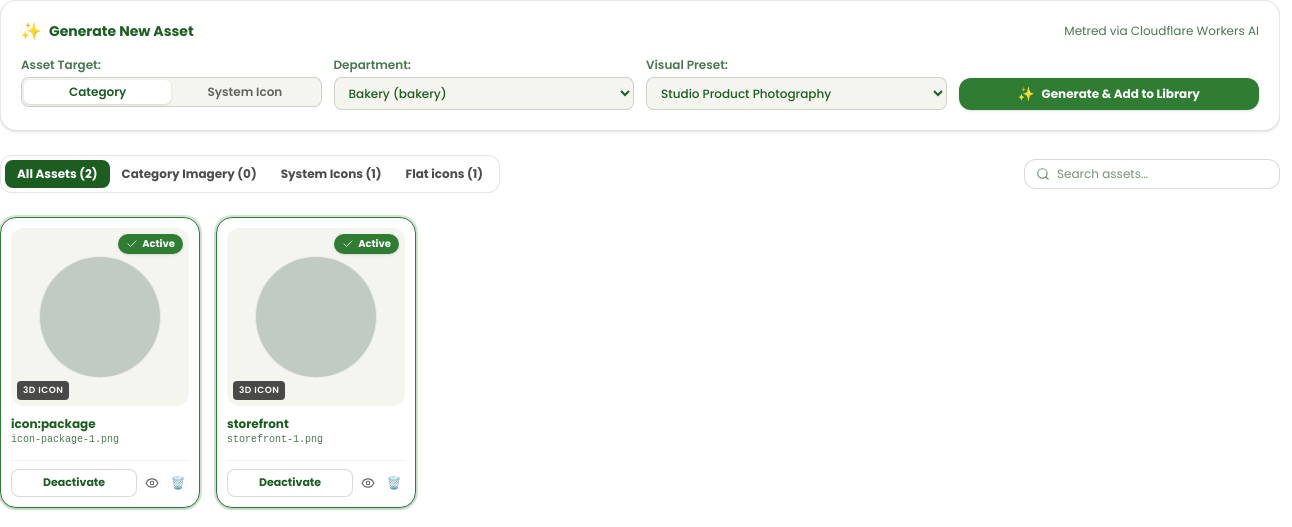
IconGalleryClient (#1288 R4, R7, R9) › R9: the Flat icons tab shows only icon: assets
Click the button "Flat icons (1)": (444, 174) [394,160,495,188]
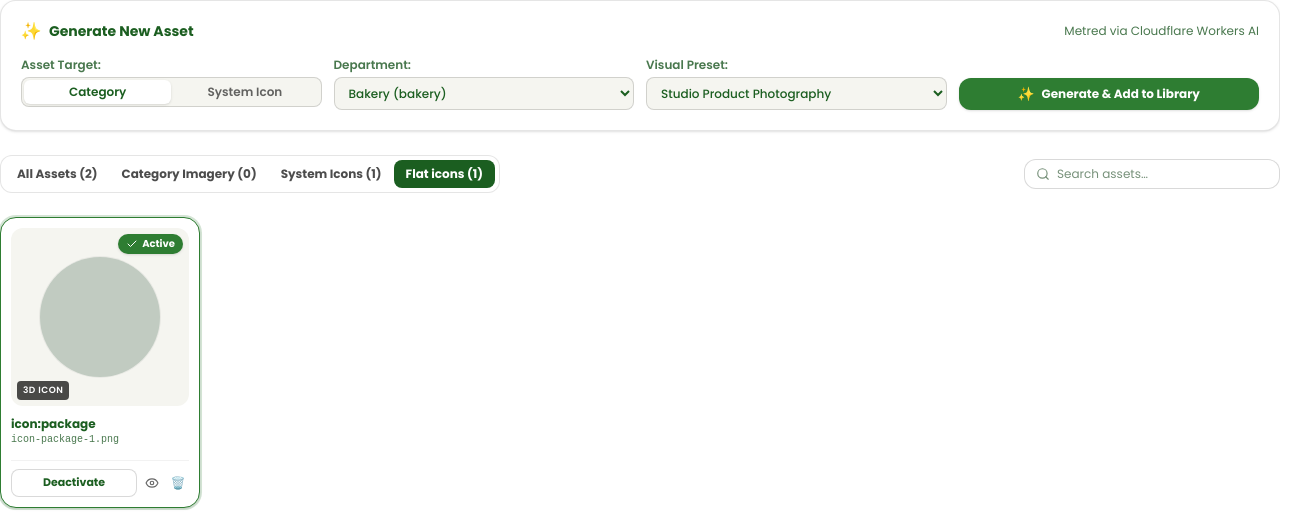
Expected: the text "icon-package-1.png" is shown, [11,434,119,445]
Expected: the text "storefront-1.png" is gone
